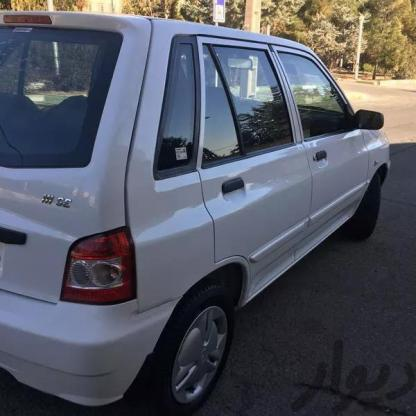Car: (0, 12, 383, 382)
